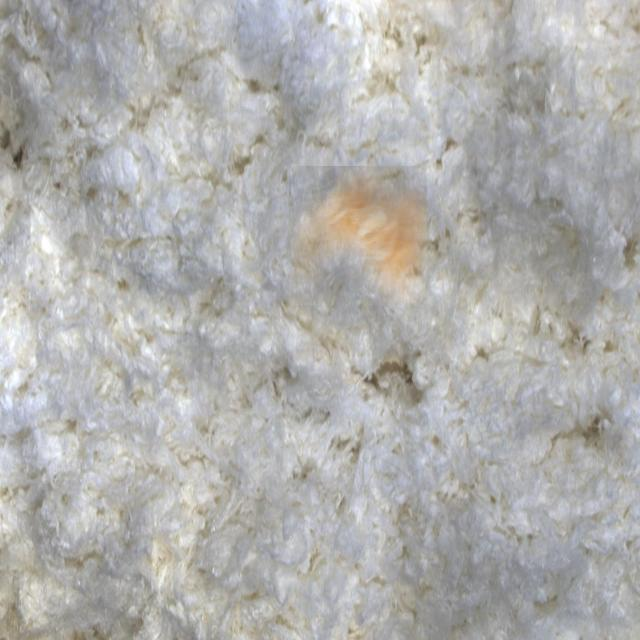dust: (289, 166, 427, 305)
